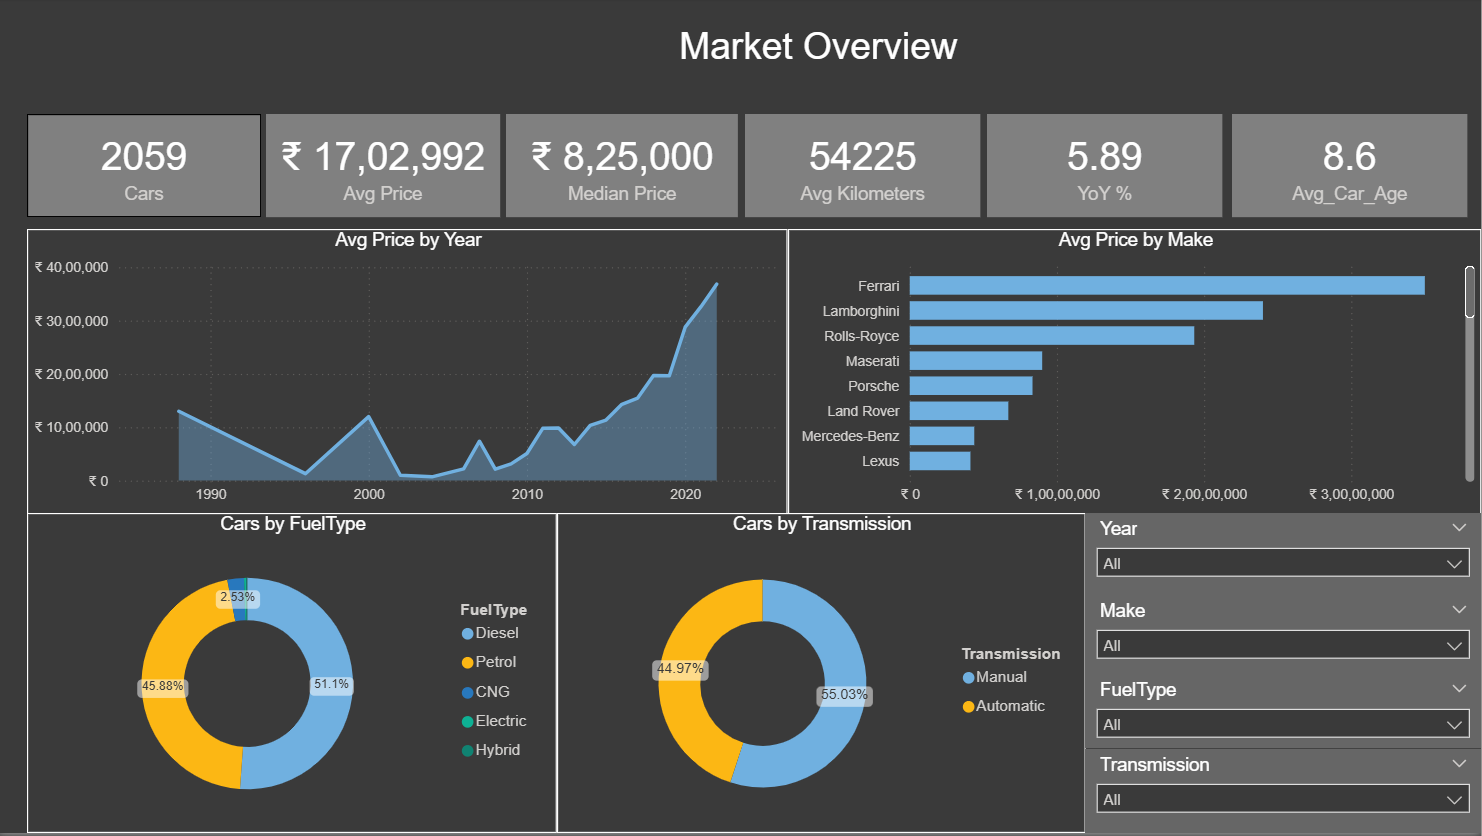

The dashboard page shown, as its layout file describes it:
{"tool":"powerbi","page":{"name":"Overview","canvas":[1280,720],"ordinal":0},"visuals":[{"type":"card","fields":{"Values":["Measures (2).Avg Price"]},"box":[231.9,100.2,201.7,89.2],"z":0},{"type":"card","fields":{"Values":["Measures (2).Cars"]},"box":[26.1,100.2,201.7,89.2],"z":1000},{"type":"card","fields":{"Values":["Measures (2).Median Price"]},"box":[439.1,100.2,200.3,89.2],"z":2000},{"type":"card","fields":{"Values":["Measures (2).Avg Kilometers"]},"box":[644.9,100.2,203.1,89.2],"z":3000},{"type":"card","fields":{"Values":["Measures (2).YoY %"]},"box":[853.5,100.2,203.1,89.2],"z":4000},{"type":"lineChart","fields":{"Y":["Measures (2).Avg Price"],"Category":["Dim_Year.Year"]},"box":[26.1,199,655.9,245.6],"z":5000},{"type":"barChart","fields":{"Y":["Measures (2).Avg Price"],"Category":["Dim_Make.Make"]},"box":[682,199,598.3,245.6],"z":6000},{"type":"donutChart","fields":{"Y":["Measures (2).Cars"],"Category":["Dim_Fuel.FuelType"]},"box":[26.1,444.6,456.9,275.8],"z":7000},{"type":"donutChart","fields":{"Y":["Measures (2).Cars"],"Category":["DimTransmission.Transmission"]},"box":[483,444.6,455.6,275.8],"z":8000},{"type":"slicer","fields":{"Values":["Fact_Cars.Year"]},"box":[938.6,444.6,341.7,79.6],"z":9000},{"type":"slicer","fields":{"Values":["Fact_Cars.Make"]},"box":[938.6,514.6,341.7,71.4],"z":10000},{"type":"slicer","fields":{"Values":["Dim_Fuel.FuelType"]},"box":[938.6,583.2,341.7,64.5],"z":11000},{"type":"slicer","fields":{"Values":["DimTransmission.Transmission"]},"box":[938.6,647.7,341.7,72.7],"z":12000},{"type":"textbox","box":[558.5,19.2,299.1,57.6],"z":13000},{"type":"card","fields":{"Values":["Measures (2).Avg_Car_Age"]},"box":[1064.8,100.2,203.1,89.2],"z":14000}]}

Visuals, with their boxes in screenshot pixels (x1, y1, x2, y2), scaled from the page's 1280x720 canvas onto the 1482x836 screenshot:
card - Measures (2).Avg Price: 268, 116, 502, 220
card - Measures (2).Cars: 30, 116, 264, 220
card - Measures (2).Median Price: 508, 116, 740, 220
card - Measures (2).Avg Kilometers: 747, 116, 982, 220
card - Measures (2).YoY %: 988, 116, 1223, 220
lineChart - Measures (2).Avg Price x Dim_Year.Year: 30, 231, 790, 516
barChart - Measures (2).Avg Price x Dim_Make.Make: 790, 231, 1481, 516
donutChart - Measures (2).Cars x Dim_Fuel.FuelType: 30, 516, 559, 835
donutChart - Measures (2).Cars x DimTransmission.Transmission: 559, 516, 1087, 835
slicer - Fact_Cars.Year: 1087, 516, 1481, 609
slicer - Fact_Cars.Make: 1087, 598, 1481, 680
slicer - Dim_Fuel.FuelType: 1087, 677, 1481, 752
slicer - DimTransmission.Transmission: 1087, 752, 1481, 835
textbox: 647, 22, 993, 89
card - Measures (2).Avg_Car_Age: 1233, 116, 1468, 220
